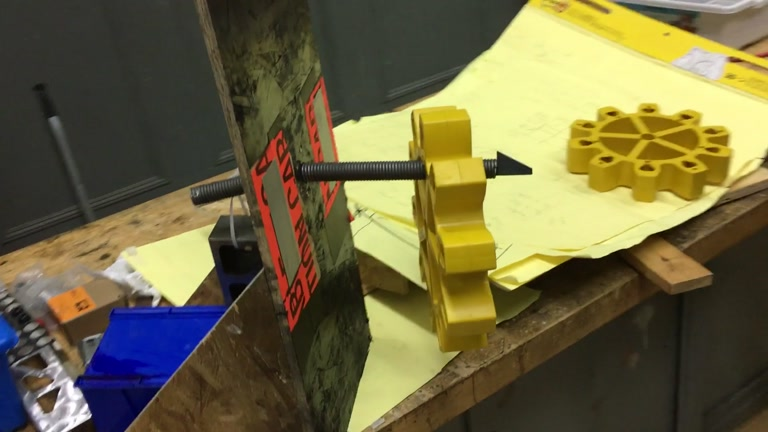gear: (406, 105, 496, 352), (564, 102, 734, 201)
